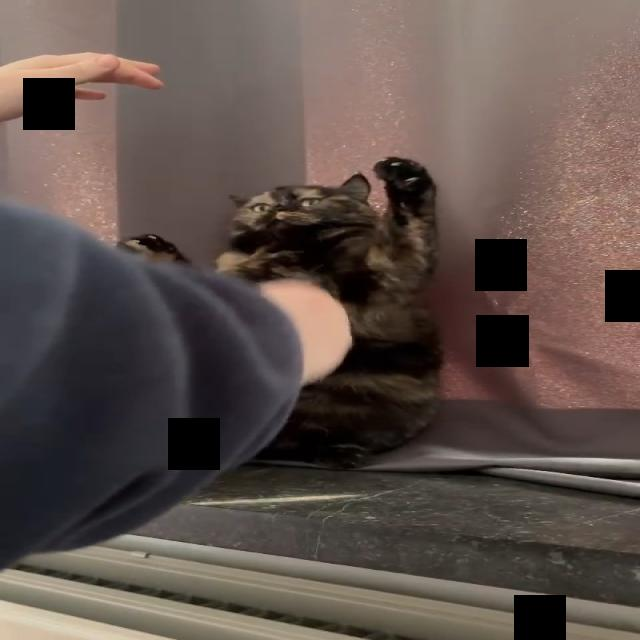authorized: (214, 156, 446, 470)
